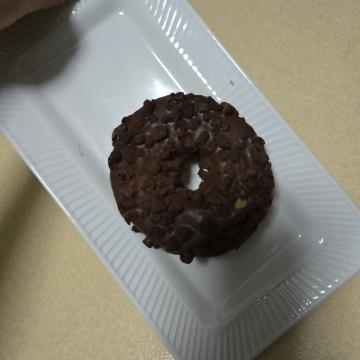doughnut: (77, 78, 273, 263)
